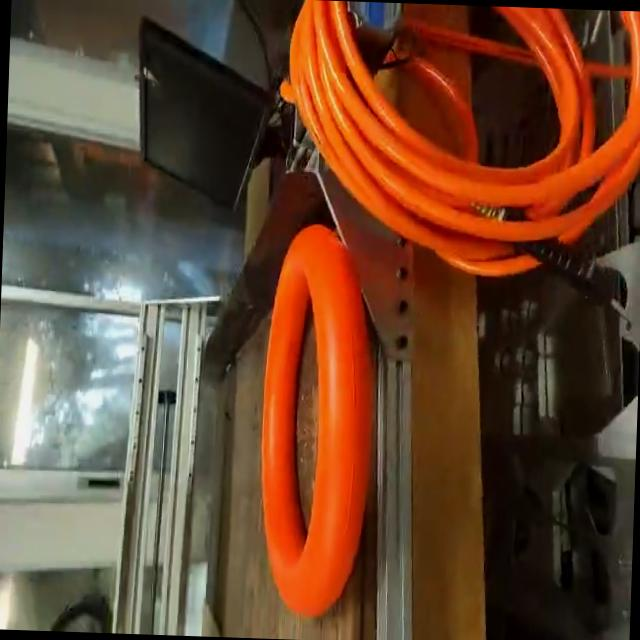note: (253, 220, 379, 625)
